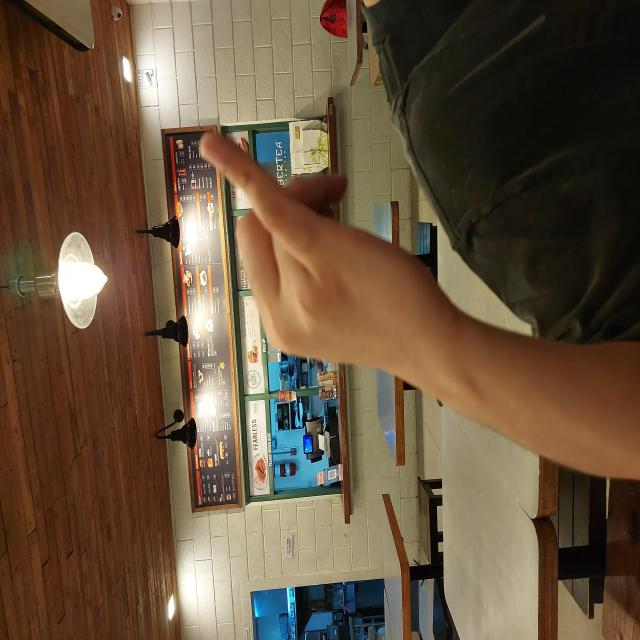J: (259, 198, 512, 461)
